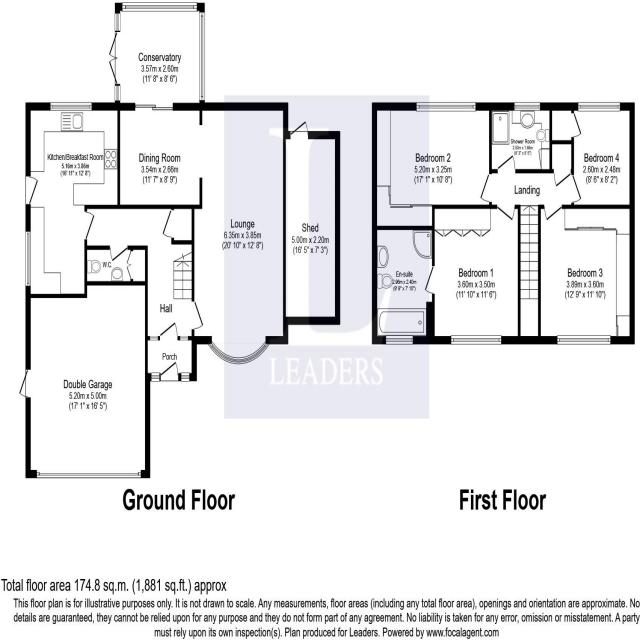DOOR: (24, 174, 40, 207), (161, 208, 175, 239), (191, 300, 205, 331), (108, 244, 129, 264), (160, 361, 179, 383), (83, 210, 96, 241), (496, 203, 516, 223), (290, 119, 309, 140), (497, 154, 516, 175), (553, 167, 572, 188), (479, 173, 492, 203), (159, 321, 178, 341), (571, 173, 583, 204), (543, 203, 562, 222), (424, 265, 436, 295), (570, 112, 583, 139)
ROOM: (116, 99, 290, 370), (24, 101, 121, 299), (370, 101, 493, 232), (422, 203, 522, 345), (537, 203, 635, 346), (106, 0, 207, 113), (571, 101, 636, 210)
WINDOW: (207, 340, 271, 366), (121, 1, 198, 13), (198, 10, 206, 102), (556, 334, 612, 347), (416, 101, 476, 112), (450, 334, 502, 346), (49, 100, 92, 112), (578, 101, 621, 112), (24, 229, 32, 288), (385, 334, 413, 346), (514, 101, 541, 112), (113, 12, 121, 33), (114, 84, 122, 102), (181, 371, 190, 382), (151, 372, 160, 382), (179, 335, 189, 342), (149, 335, 158, 342)
